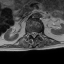CCS_normal: (33, 30, 35, 39)
LFS_normal: (37, 31, 39, 36)
LLS_normal: (35, 30, 37, 38)
RFS_normal: (29, 31, 30, 36)
RLS_normal: (31, 30, 33, 38)
